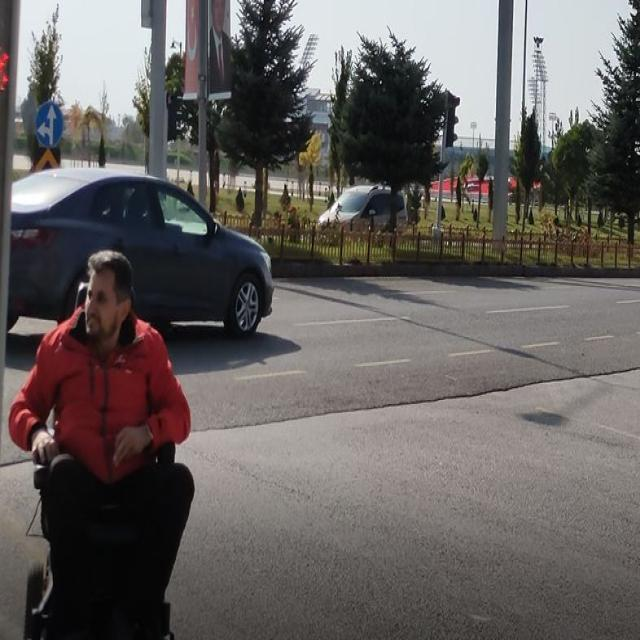wheelchairs: (41, 290, 180, 640)
